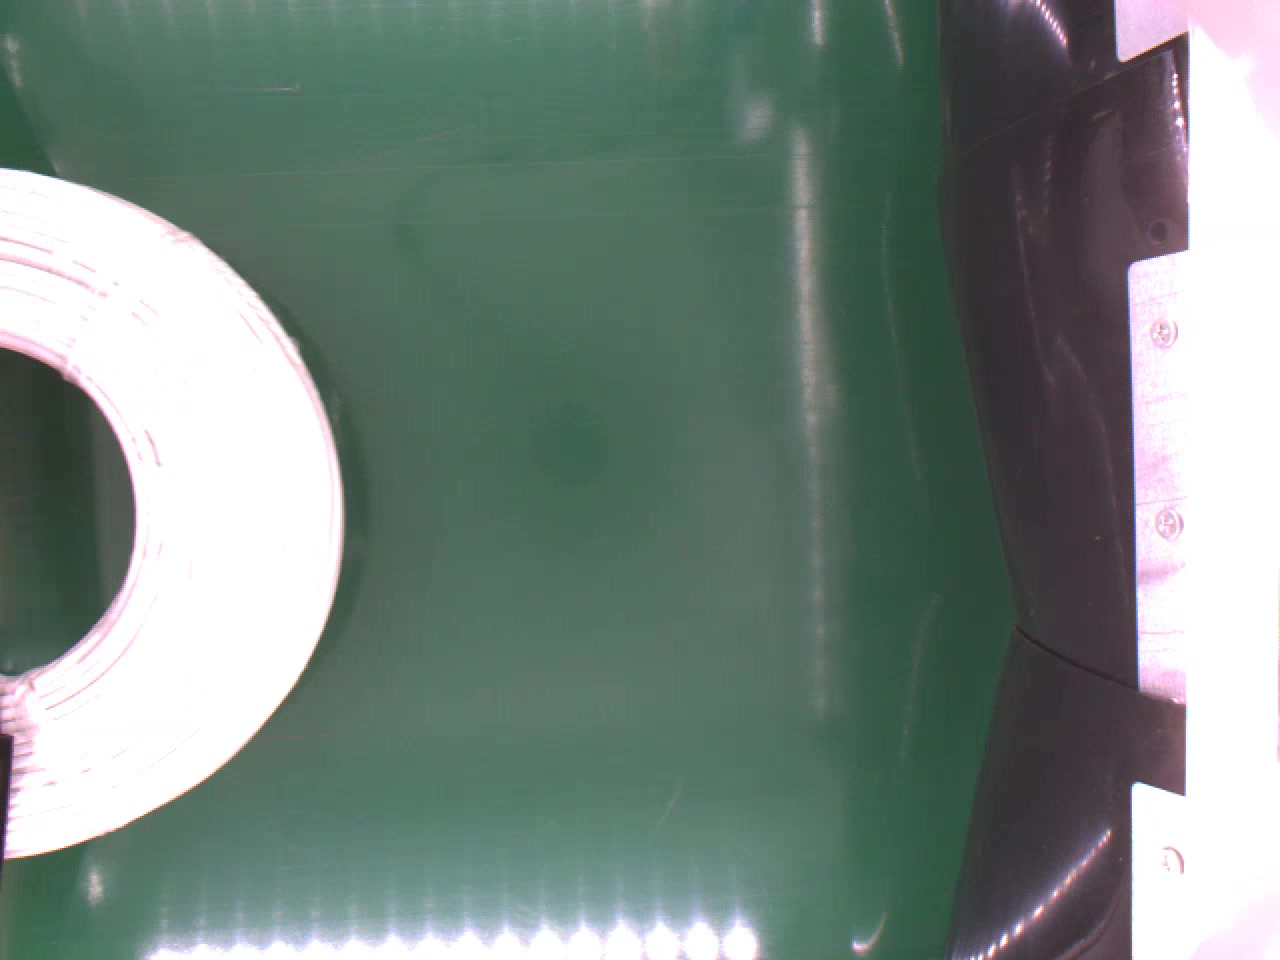white: (0, 162, 347, 865)
